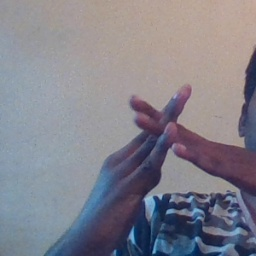W: (111, 70, 219, 201)
